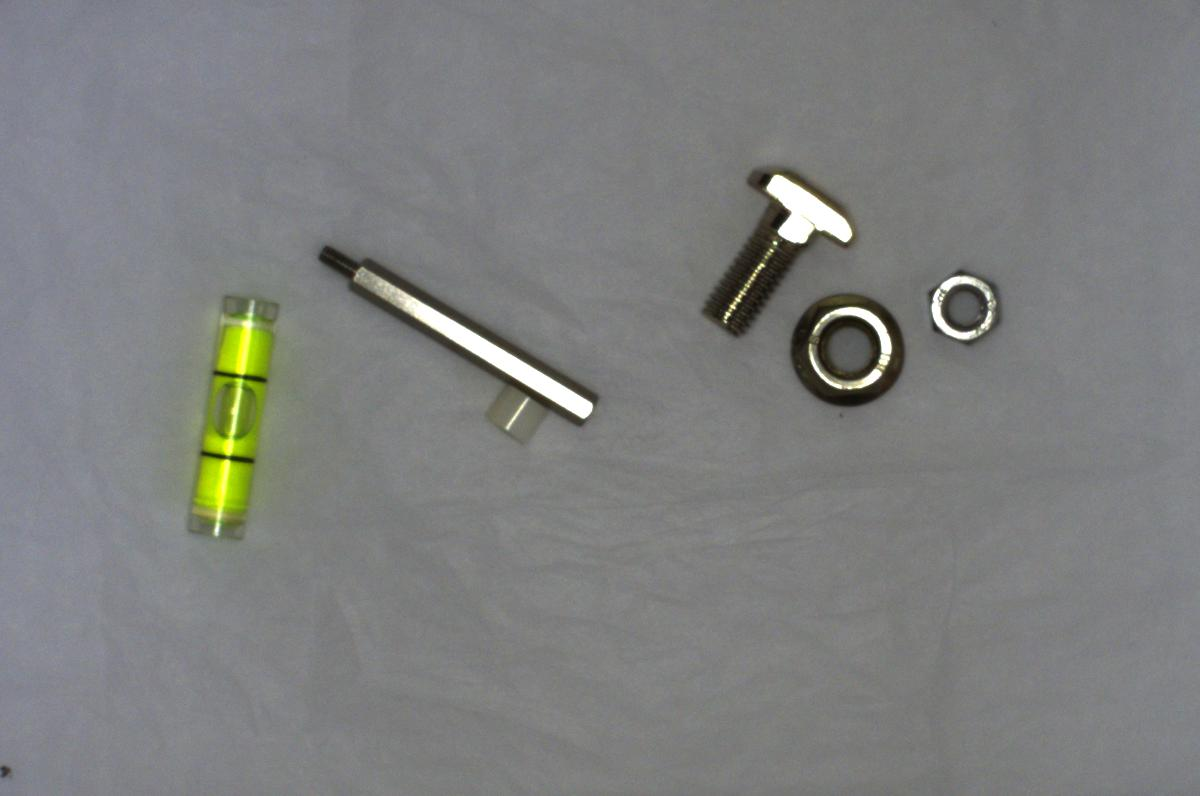Flange nut: (783, 281, 907, 412)
Hexagon nut: (906, 263, 1007, 356)
Hexagonal steel column: (303, 236, 596, 427)
Horizontal bubble: (182, 283, 280, 541)
Plastic cushion pillar: (466, 381, 558, 454)
T-shaped screw: (702, 162, 856, 330)
